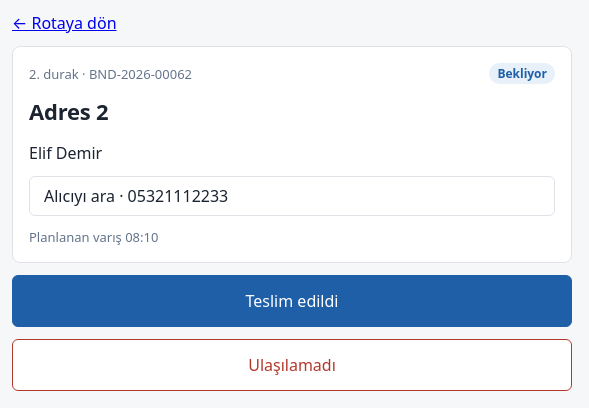
courier screens › CourierStopPage (K3) › should mark delivered and return to the route
The width and height of the screenshot is (589, 408).
Click the button "Teslim edildi".
click(292, 301)  # box [12,275,572,327]
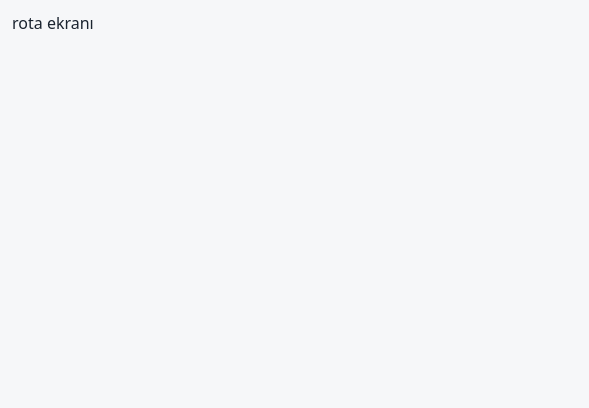
Expected: the text "rota ekranı" is shown, [12,12,94,34]
